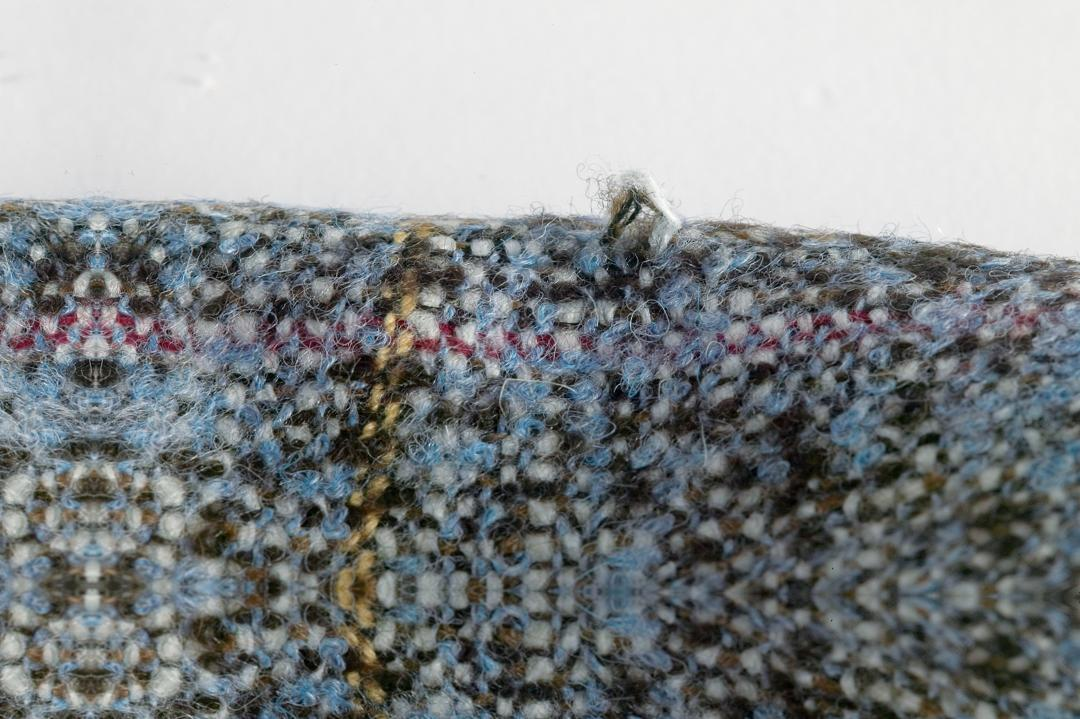snag: (598, 168, 683, 267)
